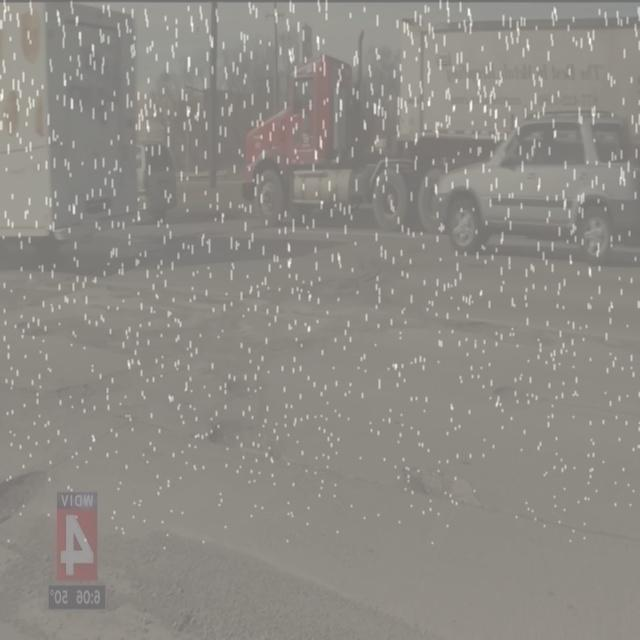Pothole: (421, 303, 640, 373), (198, 285, 340, 352), (26, 308, 152, 363), (0, 457, 65, 524), (207, 426, 286, 478), (408, 454, 481, 506), (480, 375, 522, 409)
